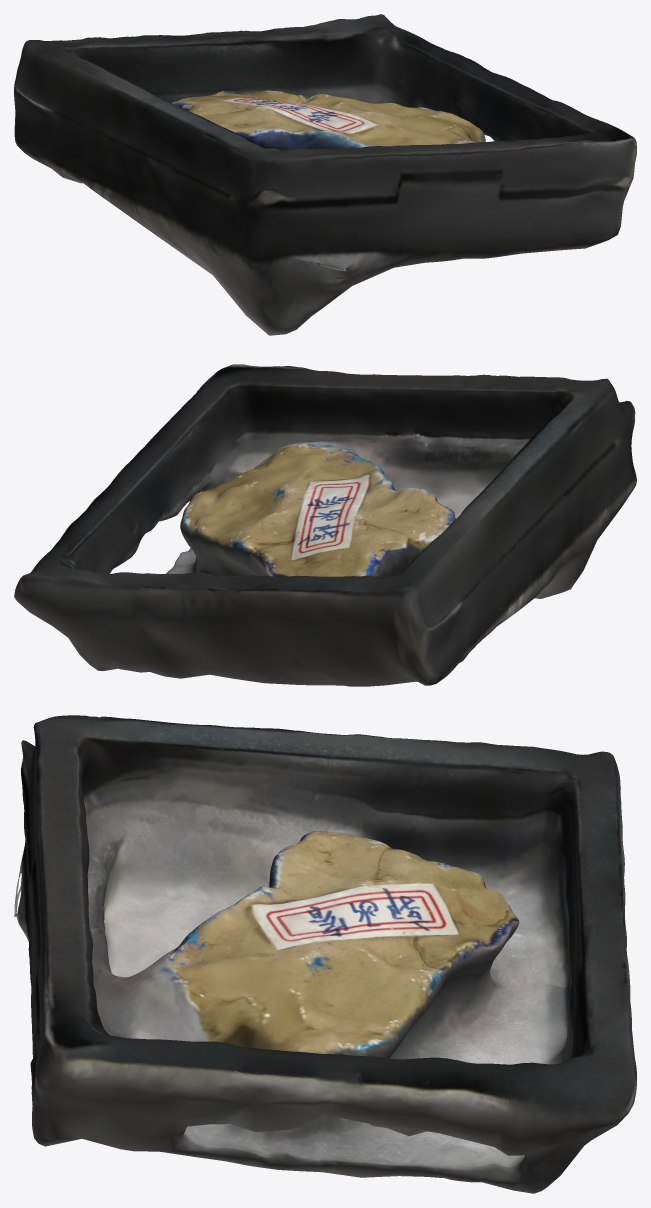
3 renders of one model, top to bottom at view 1: azimuth 30°, elevation 25°; view 2: azimuth 150°, elevation 25°; view 3: azimuth 270°, elevation 25°, orthographic. The views are drawn at different scales.
Size of the model in its own units: 0.7891 by 0.3871 by 0.778.
1 material, 1 textured.
